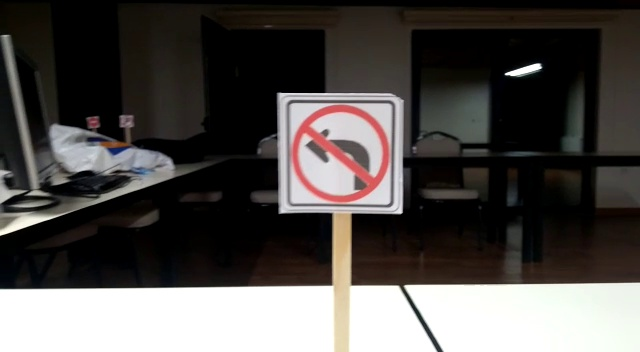sola_donulmez: (274, 96, 401, 210)
